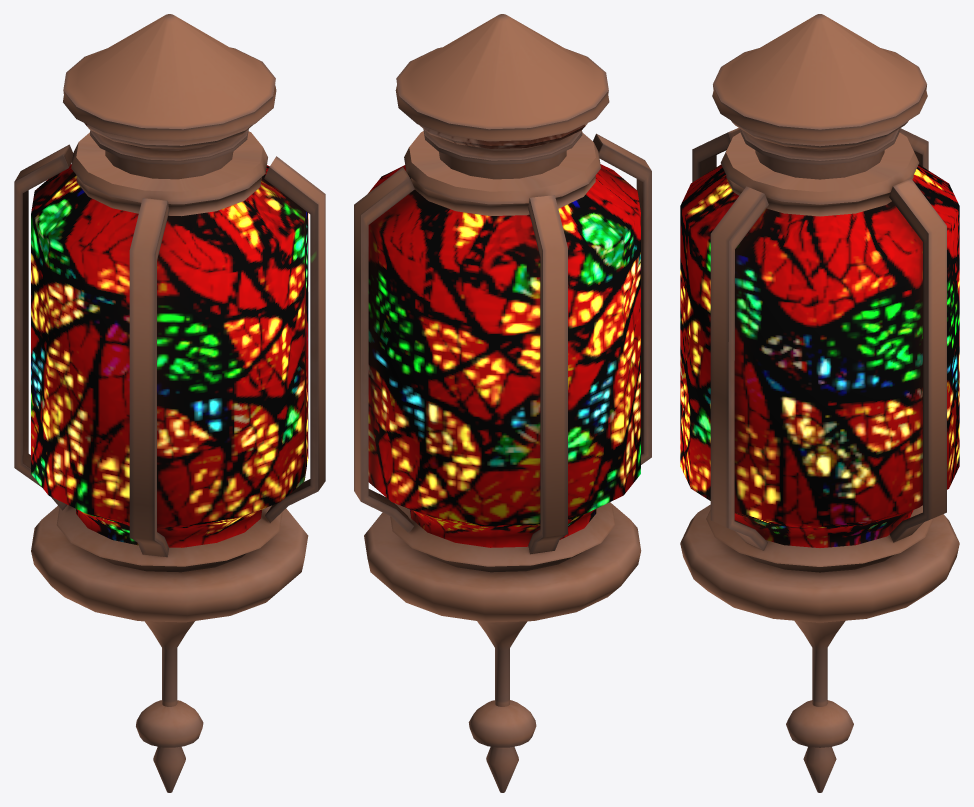
Rendered from SM_Lantern_01.fbx.
3 views of the same model, side by side, from view 1: azimuth 30°, elevation 25°; view 2: azimuth 150°, elevation 25°; view 3: azimuth 270°, elevation 25° (orthographic).
Parts seen in each view (by area): view 1: SM_Lantern_01_LOD0; view 2: SM_Lantern_01_LOD0; view 3: SM_Lantern_01_LOD0.
Part boxes in pixels (left/top/right/bottom): SM_Lantern_01_LOD0: left=14, top=14, right=325, bottom=792; SM_Lantern_01_LOD0: left=354, top=14, right=651, bottom=792; SM_Lantern_01_LOD0: left=680, top=14, right=959, bottom=792.
Bounding box in the file's own units: 40.02 × 40.02 × 123.
